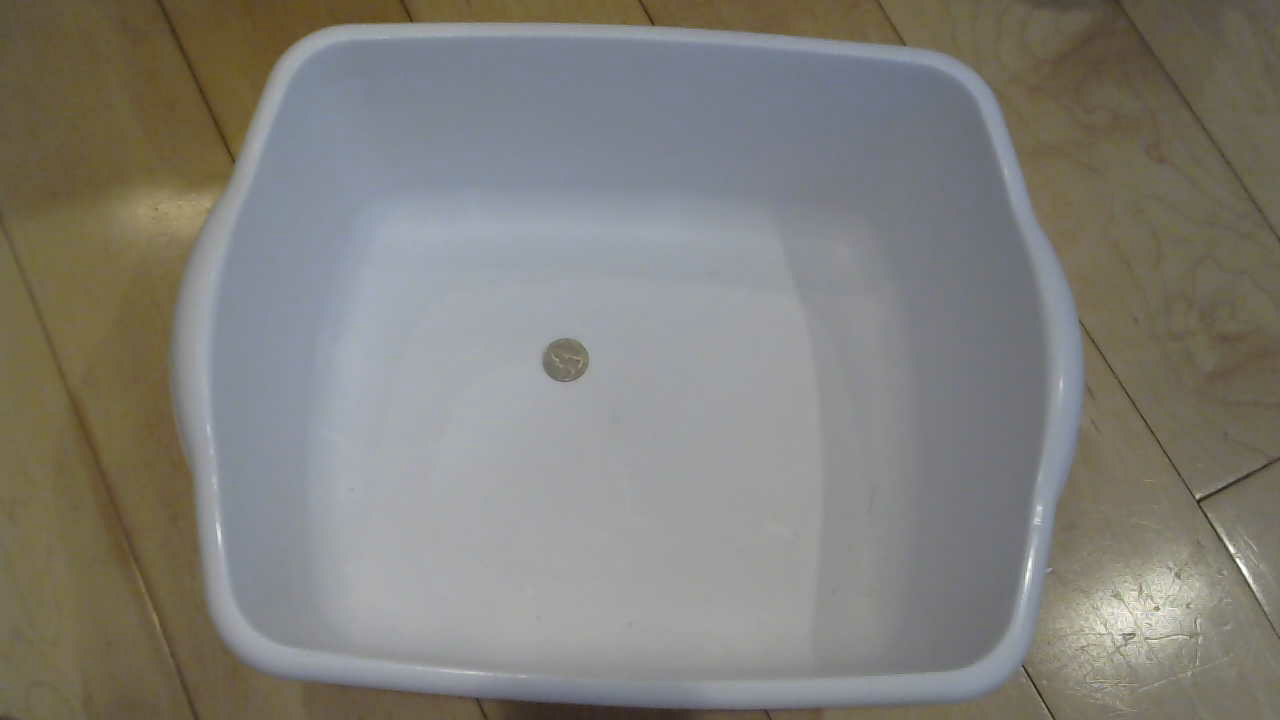coin: (535, 338, 599, 397)
